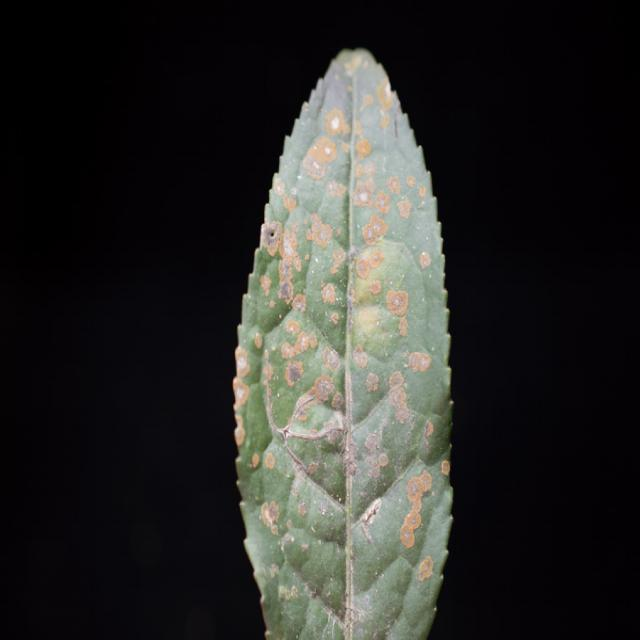Tea red rust: (251, 96, 440, 617)
